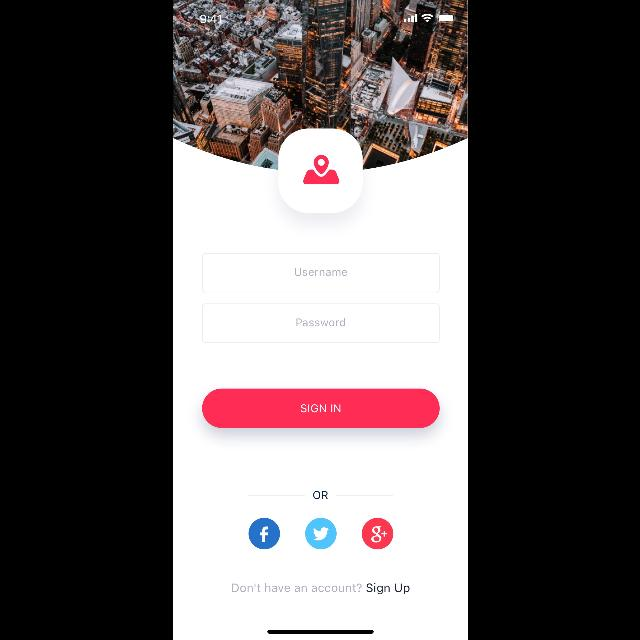icon: (248, 518, 280, 550), (304, 518, 336, 550), (361, 518, 393, 550)
image: (172, 1, 468, 170), (278, 129, 362, 213)
input: (201, 254, 439, 292), (201, 304, 439, 342)
text: (231, 584, 409, 594), (294, 268, 346, 276), (296, 318, 344, 326), (312, 491, 328, 499)
textbutton: (201, 388, 439, 428)
uppertaskbar: (199, 14, 456, 24)
